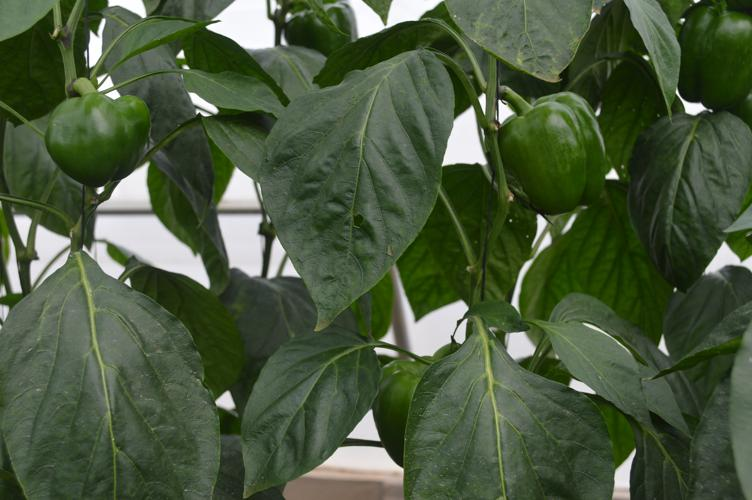BellPepper: (498, 90, 609, 217), (48, 92, 150, 185), (676, 11, 748, 120), (363, 354, 421, 465), (282, 5, 357, 57)
